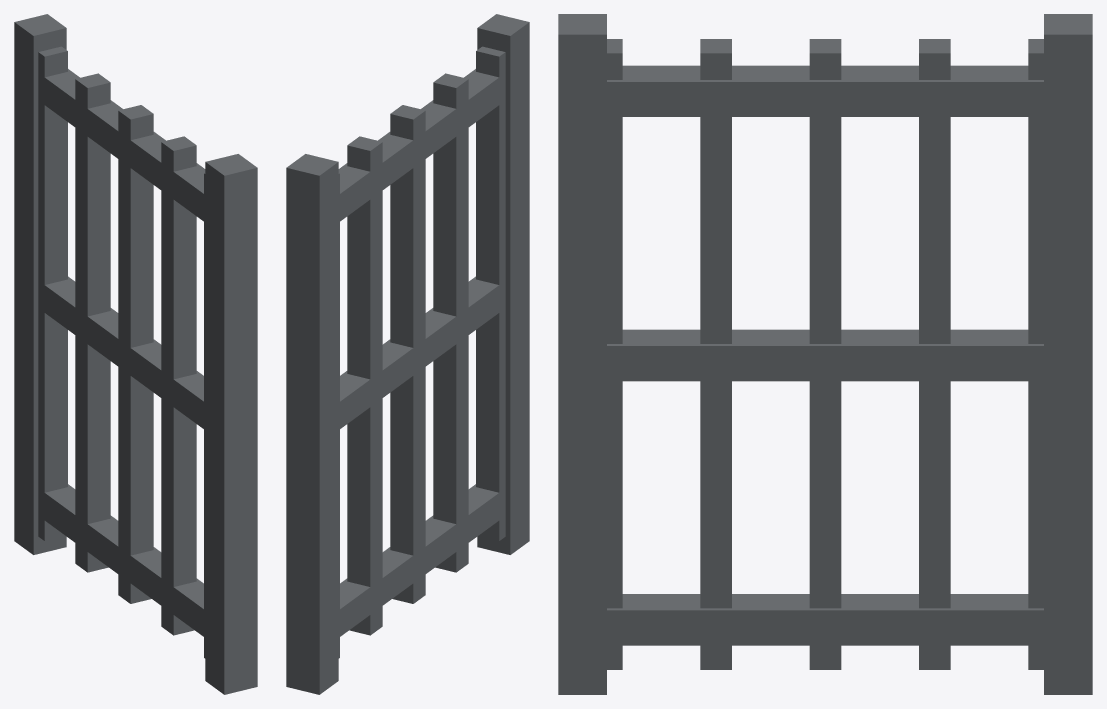
The model's file is Grille__Bars.fbx.
The picture shows the model from 3 angles, left to right: view 1: azimuth 30°, elevation 25°; view 2: azimuth 150°, elevation 25°; view 3: azimuth 270°, elevation 25°; orthographic projection. The views are drawn at different scales.
Visible parts, largest first — view 1: Grille__Bars; view 2: Grille__Bars; view 3: Grille__Bars.
Boxes of the visible parts, x1,y1,x2,y2 form: Grille__Bars: [14, 14, 257, 694]; Grille__Bars: [286, 14, 529, 694]; Grille__Bars: [558, 14, 1092, 694].
Bounding box in the file's own units: 10 × 150 × 110.
Materials: 1 (1 with a texture image).
